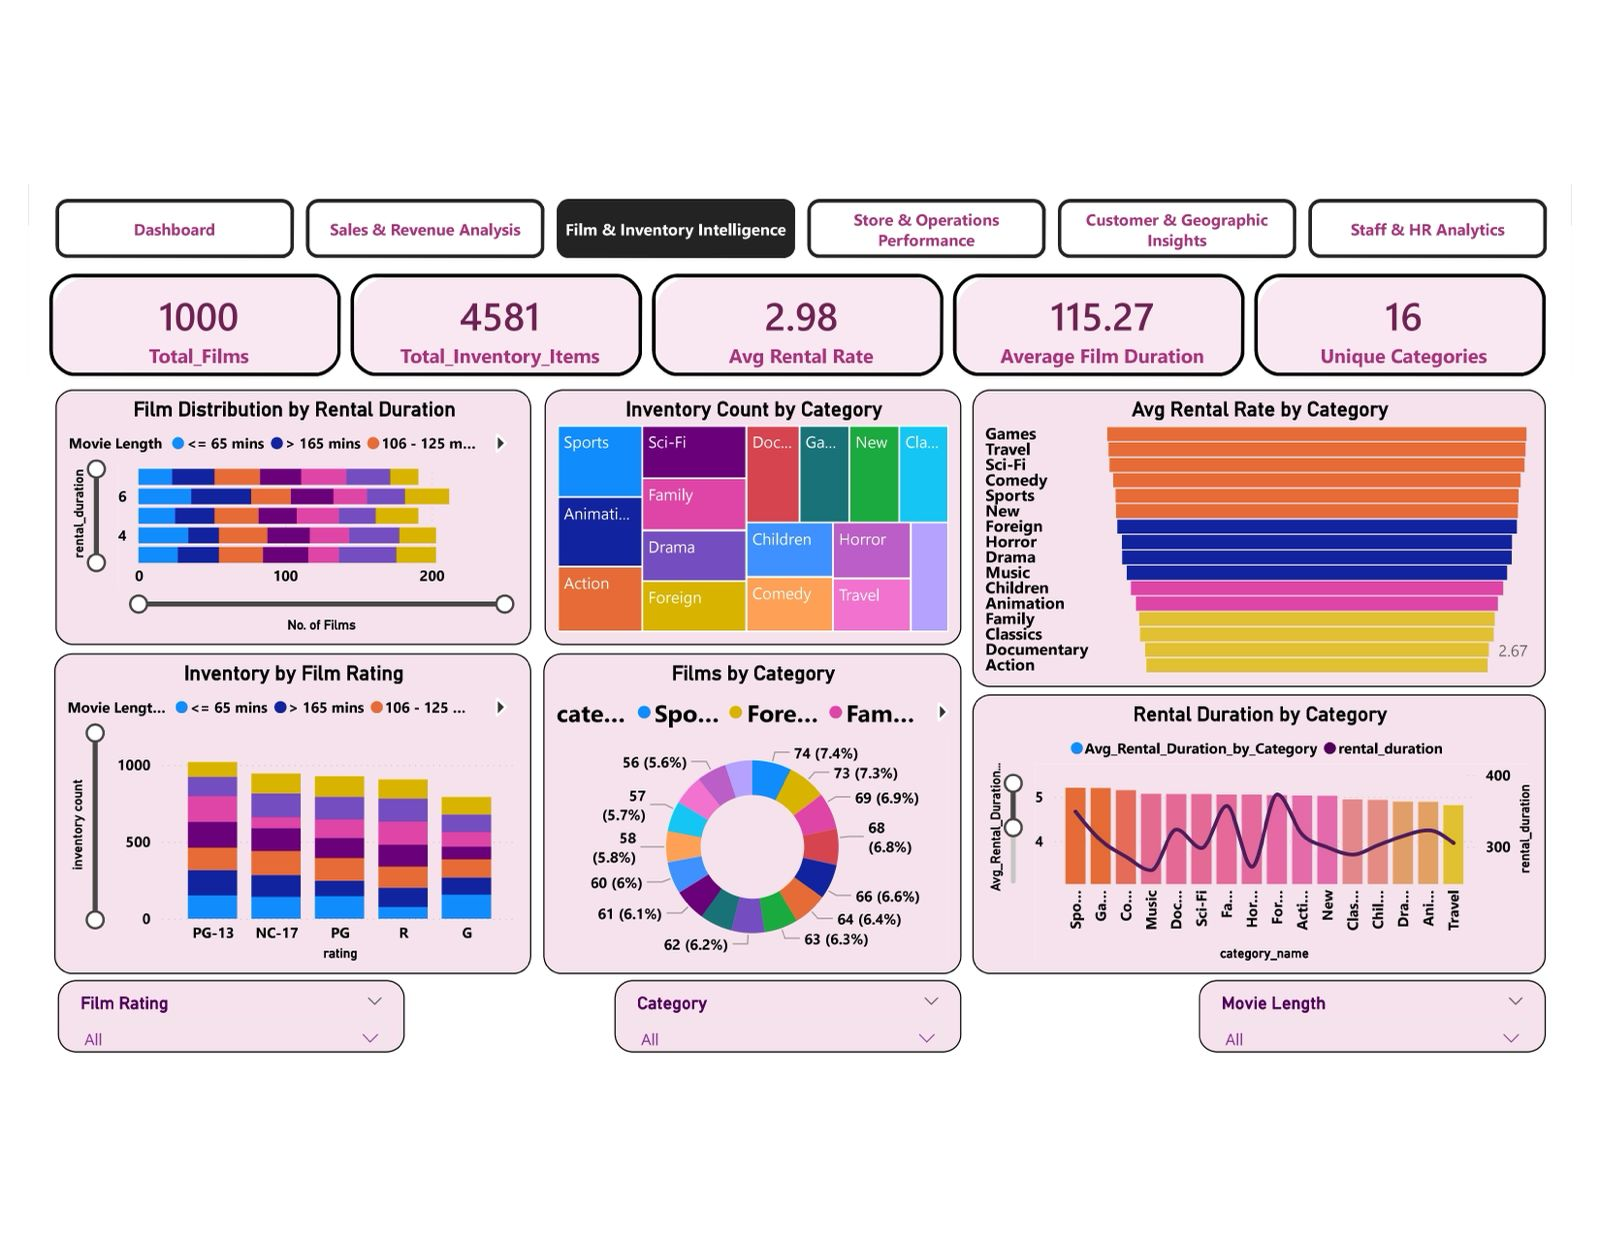

What the dashboard file says about the page in this screenshot:
{"tool":"powerbi","page":{"name":"Film & Inventory Intelligence","canvas":[1280,720],"ordinal":3},"visuals":[{"type":"cardVisual","fields":{"Data":["film.Total_Films","inventory.inventory count","film.Avg Rental Rate","Avg(film.length)","CountNonNull(category.category_id)"]},"box":[0,57.5,1280,118.6],"z":0},{"type":"barChart","title":"Film Distribution by Rental Duration","fields":{"Category":["film.rental_duration"],"Y":["CountNonNull(film.film_id)"],"Series":["film.Movie Length Category"]},"box":[22,170,395,211.6],"z":1000},{"type":"treemap","title":"Inventory Count by Category","fields":{"Group":["category.name"],"Values":["inventory.inventory count"]},"box":[427.6,170,346.8,211.6],"z":2000},{"type":"donutChart","title":"Films by Category","fields":{"Y":["CountNonNull(film.film_id)"],"Series":["language.language_name"],"Category":["category.category_name"]},"box":[427,389.1,346.8,266],"z":3000},{"type":"funnel","title":"Avg Rental Rate by Category","fields":{"Category":["category.name"],"Y":["film.Avg Rental Rate"]},"box":[783.2,170,476.1,246.9],"z":4000},{"type":"lineStackedColumnComboChart","title":"Rental Duration by Category","fields":{"Category":["category.name"],"Y2":["Sum(film.rental_duration)"],"Y":["rental.Avg_Rental_Duration_by_Category"]},"box":[782.6,422.9,476.1,232.2],"z":5000},{"type":"columnChart","title":"Inventory by Film Rating","fields":{"Category":["film.rating"],"Y":["inventory.inventory count"],"Series":["film.Movie Length Category"]},"box":[21.5,389.1,395.3,266],"z":6000},{"type":"slicer","fields":{"Values":["film.rating"]},"box":[23.5,659.8,288,60.2],"z":7000},{"type":"slicer","fields":{"Values":["category.category_name"]},"box":[486.4,659.8,288,60.2],"z":8000},{"type":"slicer","fields":{"Values":["film.Movie Length Category"]},"box":[971.3,659.8,288,60.2],"z":9000},{"type":"pageNavigator","box":[22,12.2,1237.5,48.9],"z":10000}]}

Visuals, with their boxes on the page's 1280x720 design canvas (x1, y1, x2, y2). These are canvas units, not pixel positions in the 1600x1236 screenshot, which may show the page scaled, cropped or inside an application window:
cardVisual - film.Total_Films x inventory.inventory count: x1=0, y1=58, x2=1280, y2=176
"Film Distribution by Rental Duration" barChart: x1=22, y1=170, x2=417, y2=382
"Inventory Count by Category" treemap: x1=428, y1=170, x2=774, y2=382
"Films by Category" donutChart: x1=427, y1=389, x2=774, y2=655
"Avg Rental Rate by Category" funnel: x1=783, y1=170, x2=1259, y2=417
"Rental Duration by Category" lineStackedColumnComboChart: x1=783, y1=423, x2=1259, y2=655
"Inventory by Film Rating" columnChart: x1=22, y1=389, x2=417, y2=655
slicer - film.rating: x1=24, y1=660, x2=312, y2=720
slicer - category.category_name: x1=486, y1=660, x2=774, y2=720
slicer - film.Movie Length Category: x1=971, y1=660, x2=1259, y2=720
pageNavigator: x1=22, y1=12, x2=1260, y2=61
